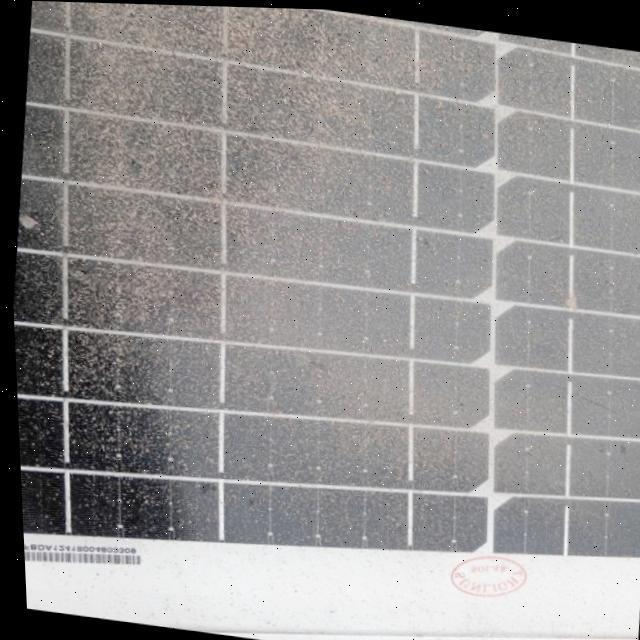Anomaly Solar Panel: (0, 0, 640, 623)
Surface Contaminant: (11, 55, 640, 609)
